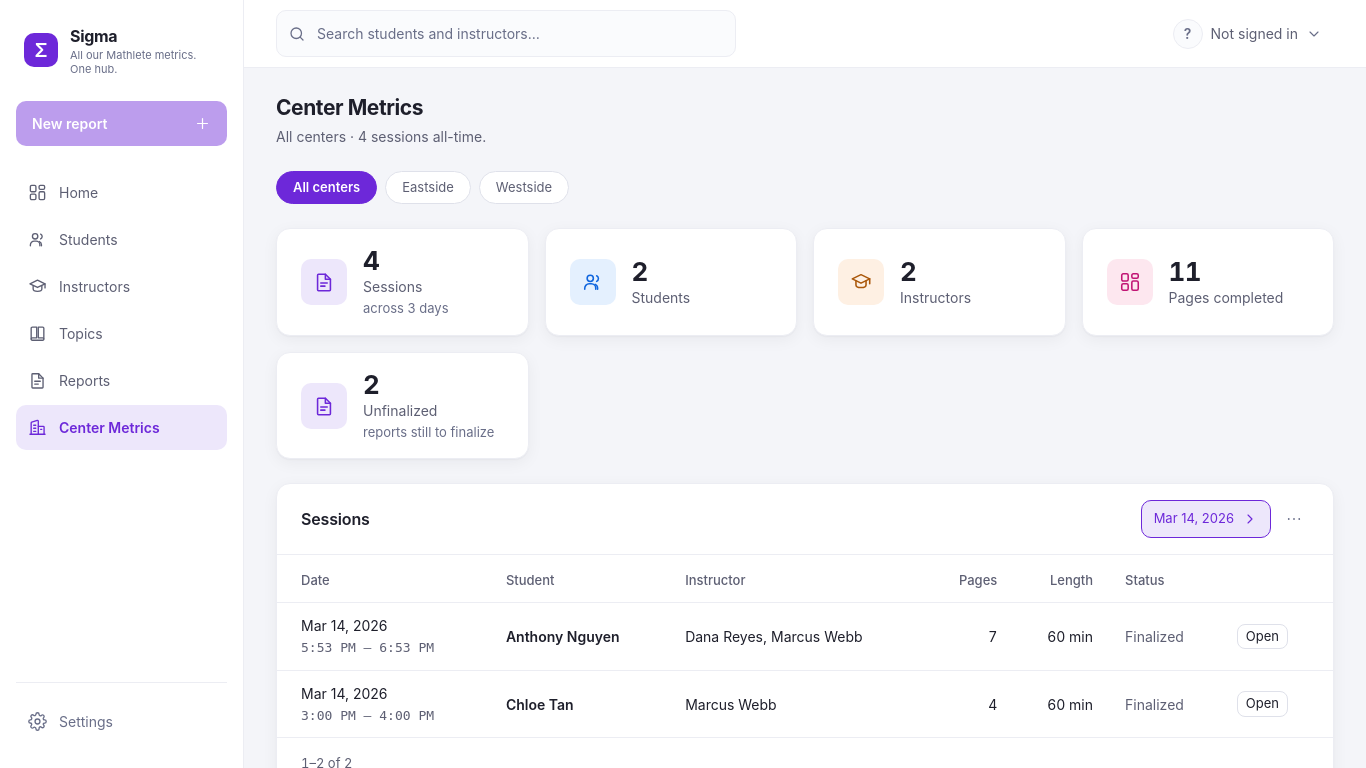
center metrics page › closes the dialog on Escape and puts focus back on the row that opened it
The width and height of the screenshot is (1366, 768).
Click the button with aria-label "open the mar 14, 2026 session for anthony nguyen": (1262, 637) [1237,624,1288,649]
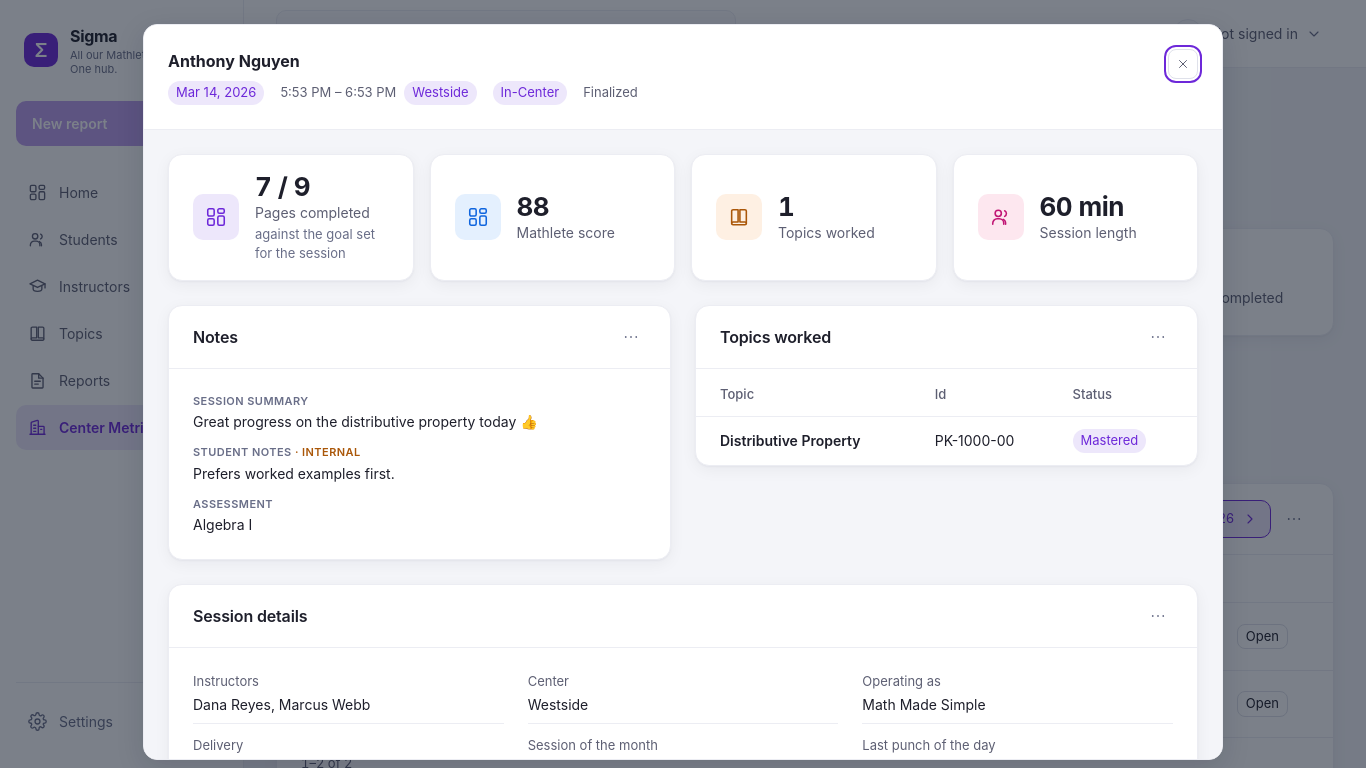
Expected: the dialog is shown
Press Escape
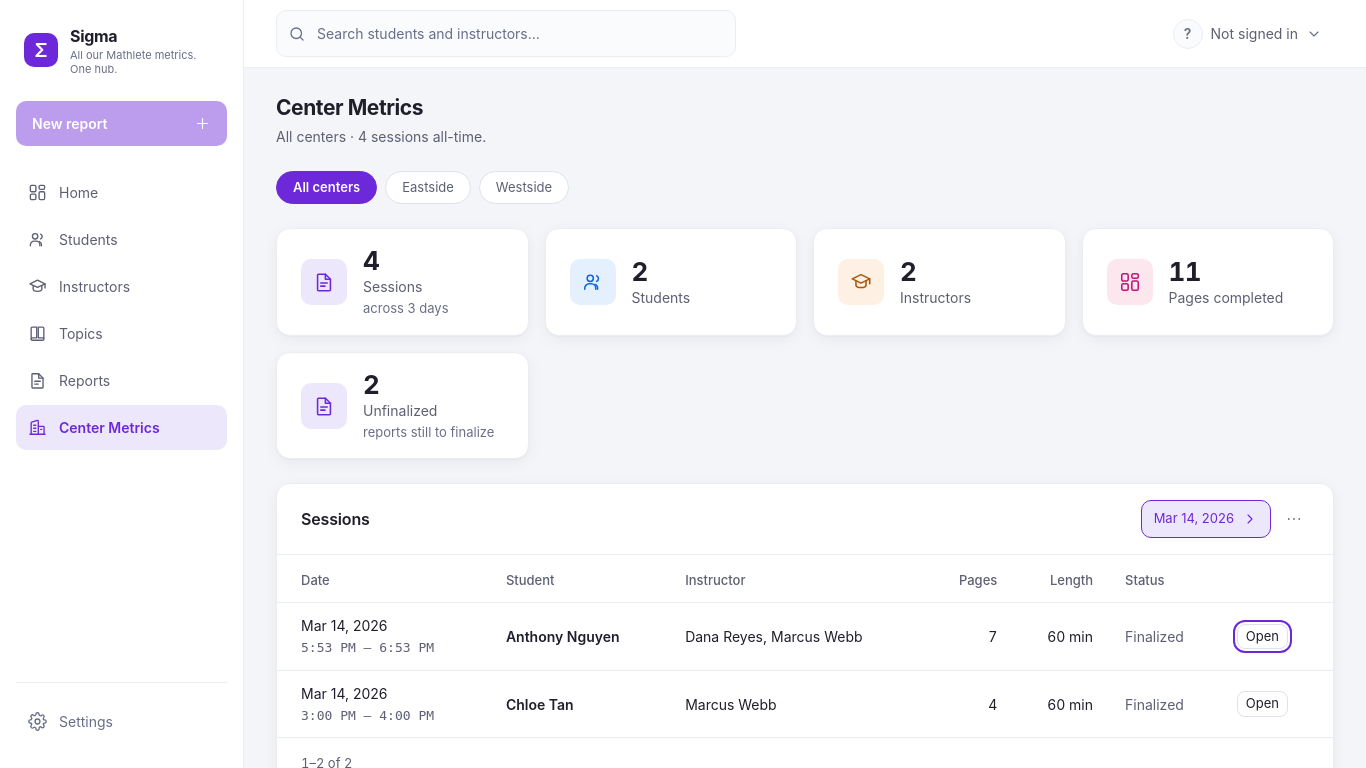
Expected: the dialog is gone
